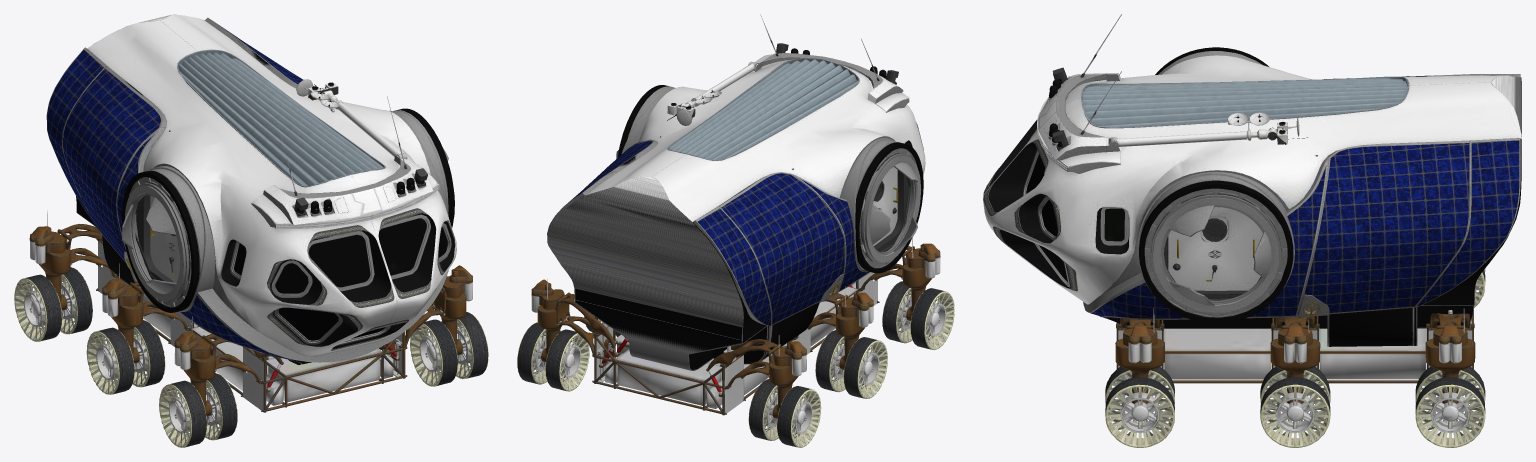
File: rover.glb
3 renders of one model, left to right at view 1: azimuth 30°, elevation 25°; view 2: azimuth 150°, elevation 25°; view 3: azimuth 270°, elevation 25°, orthographic. The views are drawn at different scales.
Visible parts, largest first — view 1: MMSEV; view 2: MMSEV; view 3: MMSEV.
Part boxes in pixels (x1=…): MMSEV: x1=14, y1=14, x2=488, y2=447; MMSEV: x1=517, y1=14, x2=954, y2=447; MMSEV: x1=983, y1=14, x2=1521, y2=447.
Size of the model in its own units: 3.05 by 3 by 4.47.
1 material, 1 textured.
